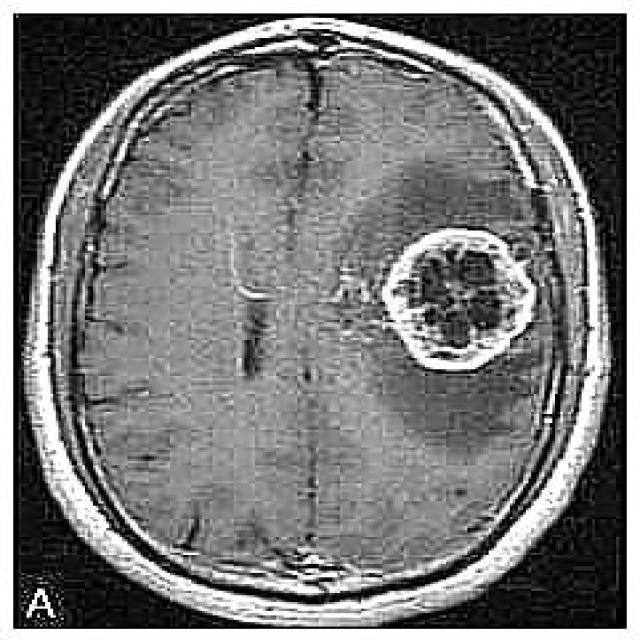Tumor-Cell: (371, 189, 526, 379)
